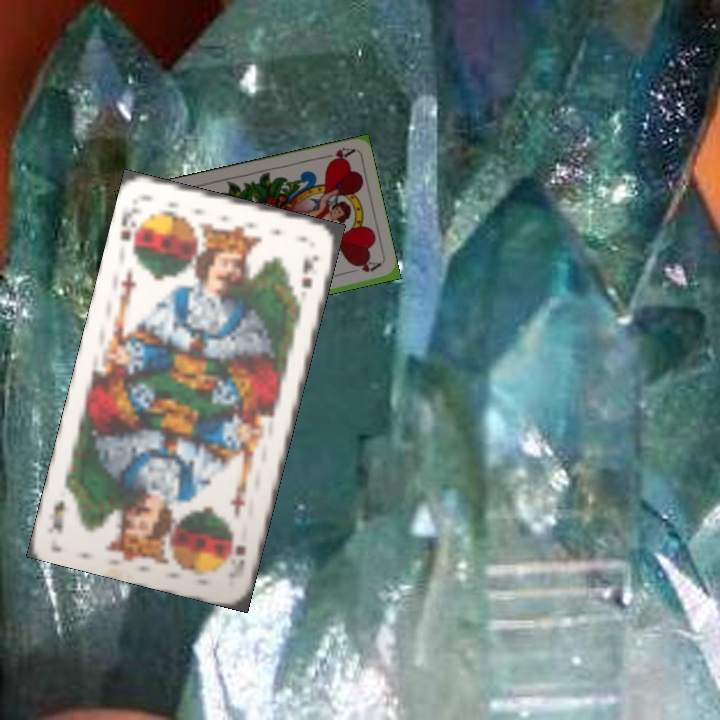HA: (315, 143, 356, 166)
SK: (115, 203, 147, 257), (224, 541, 249, 582)
